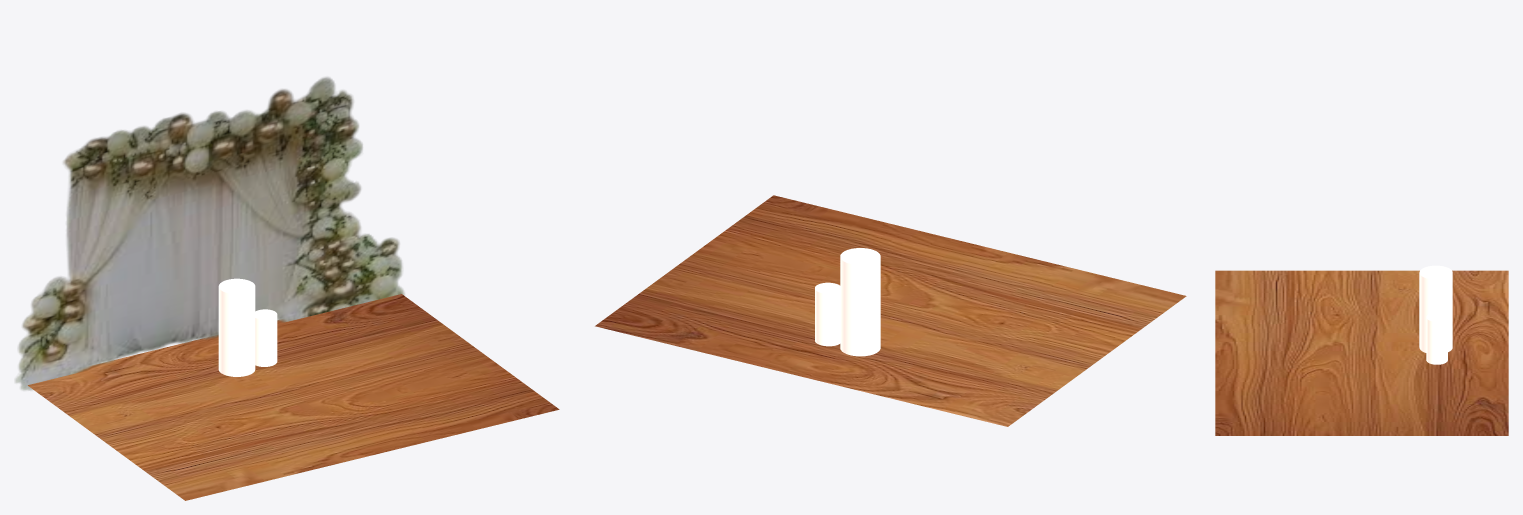
The model's file is adult-birthday-theme.glb.
3 renders of one model, left to right at view 1: azimuth 30°, elevation 25°; view 2: azimuth 150°, elevation 25°; view 3: azimuth 270°, elevation 25°, orthographic. The views are drawn at different scales.
Parts seen in each view (by area): view 1: Plane (×2), Cylinder (×2); view 2: Plane, Cylinder (×2); view 3: Plane, Cylinder (×2).
Boxes of the visible parts, bbox=[...] form: Plane (×2): bbox=[15, 77, 559, 500]; Cylinder (×2): bbox=[218, 278, 277, 376]; Plane: bbox=[595, 195, 1186, 426]; Cylinder (×2): bbox=[815, 248, 880, 356]; Plane: bbox=[1215, 270, 1508, 435]; Cylinder (×2): bbox=[1419, 265, 1452, 364].
Size of what is drawn, in the model's own units: 4.25 by 3.51 by 3.
Materials: 4 (2 with a texture image).
